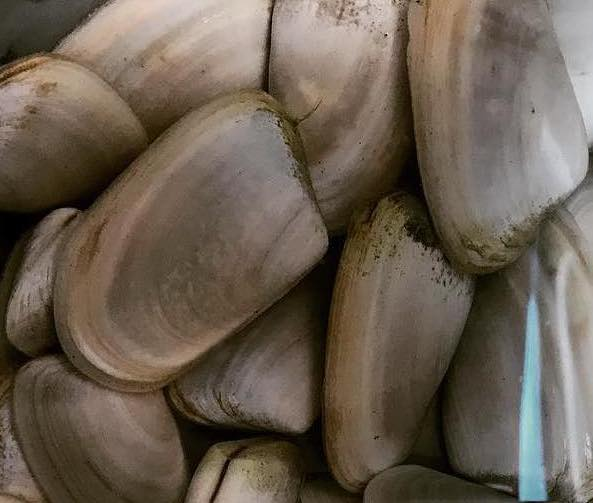tuatua: (58, 86, 327, 398), (400, 1, 587, 283), (332, 192, 473, 489), (270, 3, 420, 230), (9, 352, 183, 503), (48, 1, 269, 105), (1, 45, 145, 203), (186, 434, 310, 503)
